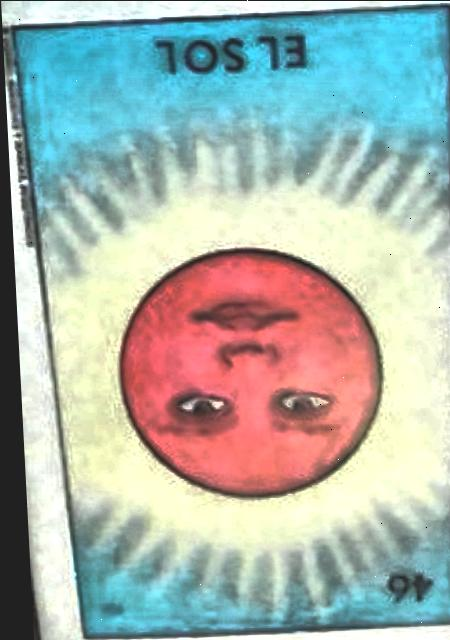El Sol: (14, 4, 450, 634)
